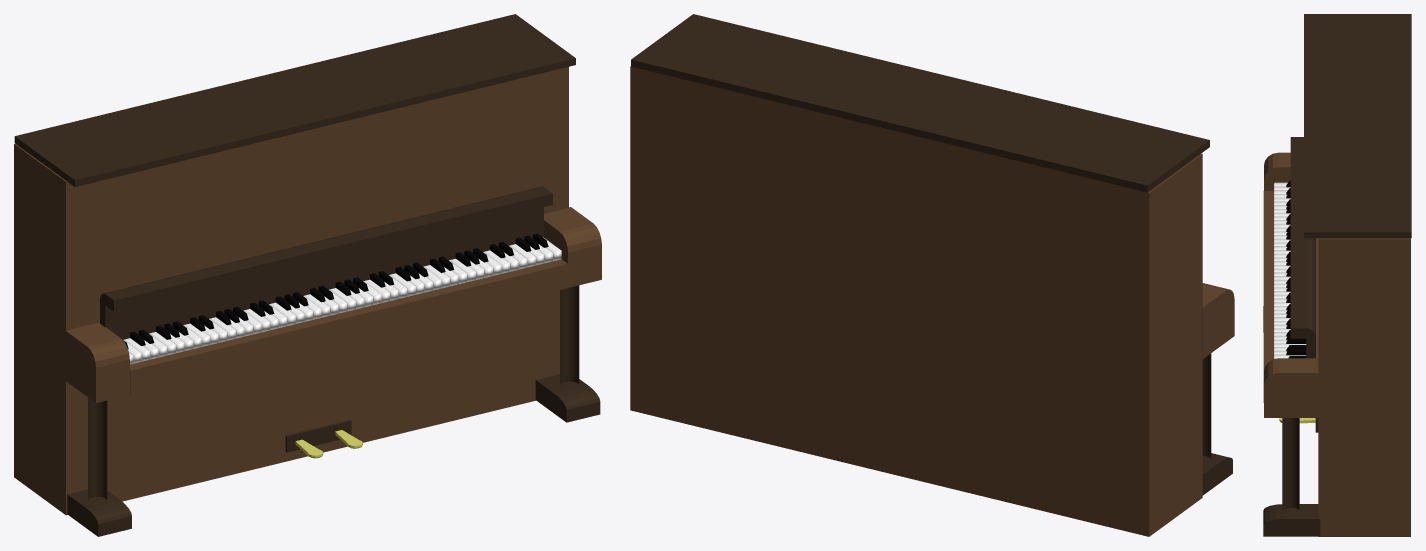
The model's file is Piano.fbx.
3 views of the same model, side by side, from view 1: azimuth 30°, elevation 25°; view 2: azimuth 150°, elevation 25°; view 3: azimuth 270°, elevation 25° (orthographic). The views are drawn at different scales.
Parts seen in each view (by area): view 1: Base, TopCap, Cap, Cube, Button, Sides, Bottom, Pillars, Cube.001; view 2: Base, TopCap, Sides, Pillars, Bottom; view 3: Base, TopCap, Cap, Sides, Button, Cube, Pillars, Bottom.
Part boxes in pixels (bbox=[...]): Base: bbox=[14, 67, 568, 515]; TopCap: bbox=[14, 14, 575, 186]; Cap: bbox=[100, 186, 552, 339]; Cube: bbox=[130, 259, 567, 394]; Button: bbox=[122, 233, 561, 364]; Sides: bbox=[65, 207, 601, 402]; Bottom: bbox=[67, 374, 600, 536]; Pillars: bbox=[88, 285, 579, 504]; Cube.001: bbox=[285, 420, 351, 452]; Base: bbox=[630, 66, 1202, 536]; TopCap: bbox=[631, 14, 1209, 192]; Sides: bbox=[1202, 283, 1234, 359]; Pillars: bbox=[1202, 353, 1211, 463]; Bottom: bbox=[1202, 453, 1232, 495]; Base: bbox=[1318, 238, 1410, 536]; TopCap: bbox=[1304, 14, 1411, 238]; Cap: bbox=[1290, 137, 1315, 358]; Sides: bbox=[1264, 152, 1319, 417]; Button: bbox=[1274, 180, 1306, 358]; Cube: bbox=[1263, 190, 1318, 402]; Pillars: bbox=[1282, 418, 1299, 514]; Bottom: bbox=[1263, 306, 1320, 536].
Size of the model in its own units: 150 by 96.22 by 42.56.
